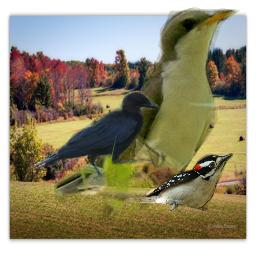Crow: (34, 91, 160, 181)
Cuckoo: (54, 3, 240, 223)
Woodpecker: (124, 151, 233, 213)
